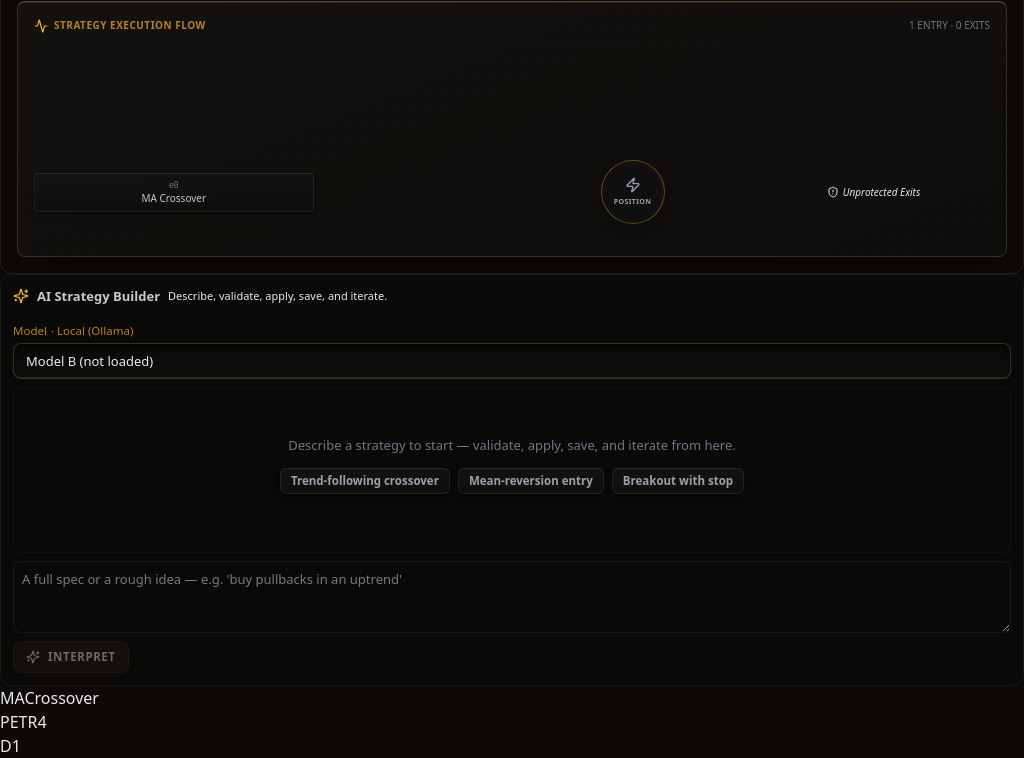
AiStrategyPanel in StrategyStudio › Apply to setup updates strategy and params from compiled payload
The width and height of the screenshot is (1024, 758).
(page scrolled)
Expected: the element with test id "ai-strategy-panel" is shown, [0,274,1023,686]
Type "Create EMA crossover" into the text box with test id "ai-strategy-message" at {"x": 512, "y": 597}, box [13,561,1011,633]
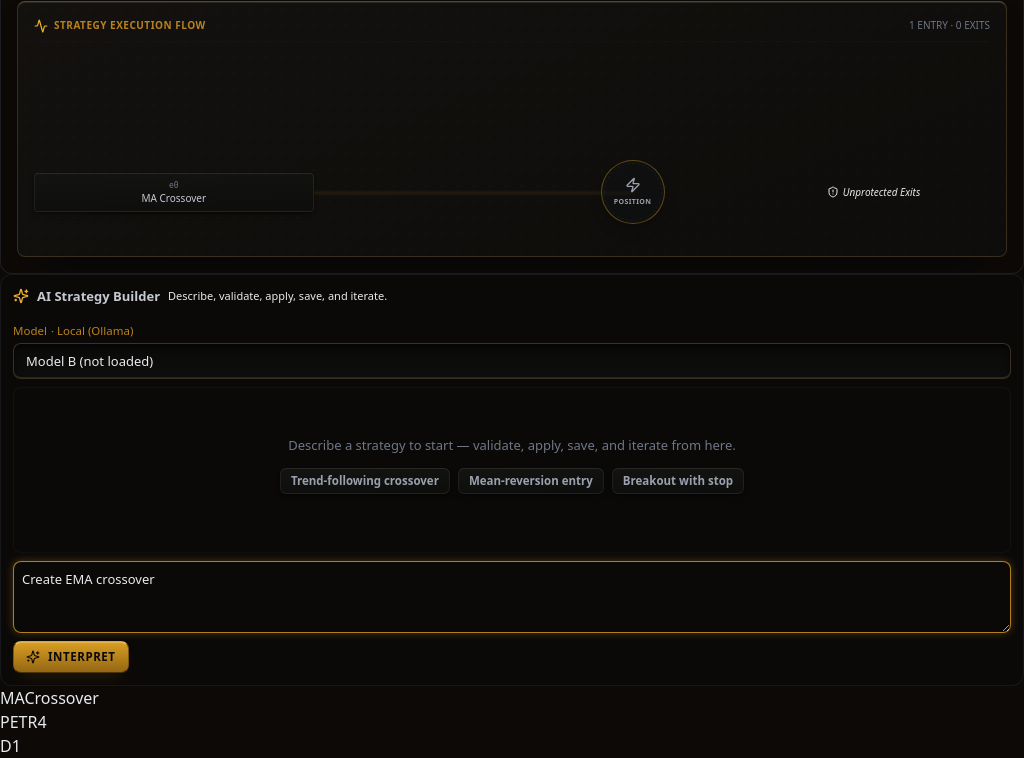
Click the button with test id "ai-strategy-submit" at {"x": 71, "y": 657}, box [13,641,129,673]
(page scrolled)
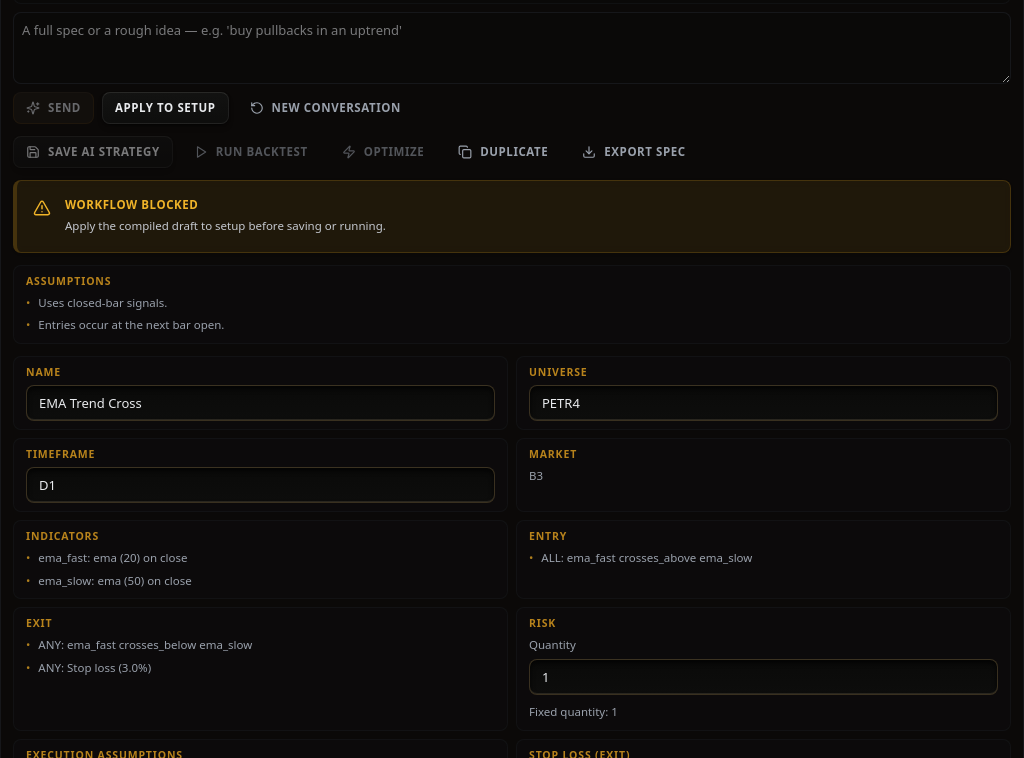
Result: the button with test id "ai-strategy-apply" is shown
Click the button with test id "ai-strategy-apply" at {"x": 165, "y": 108}, box [102,92,229,124]
(page scrolled)
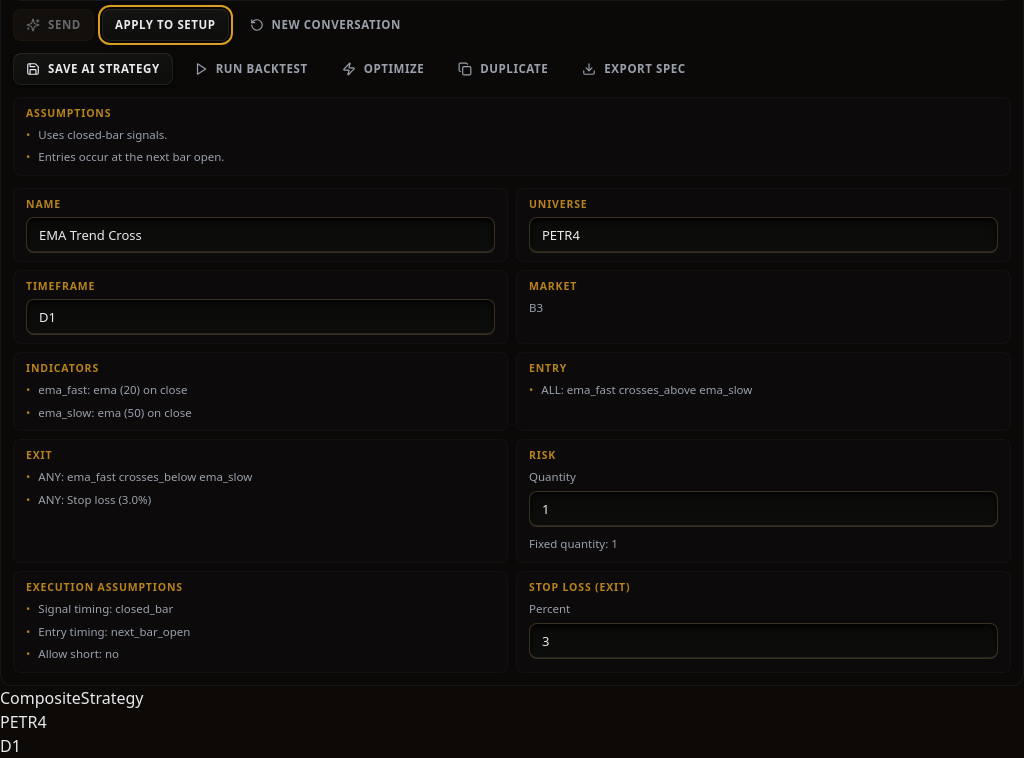
Expected: the text with test id "applied-symbol" reads "PETR4", [0,711,47,733]
Result: the text with test id "applied-strategy" reads "CompositeStrategy" at [0,687,144,709]
